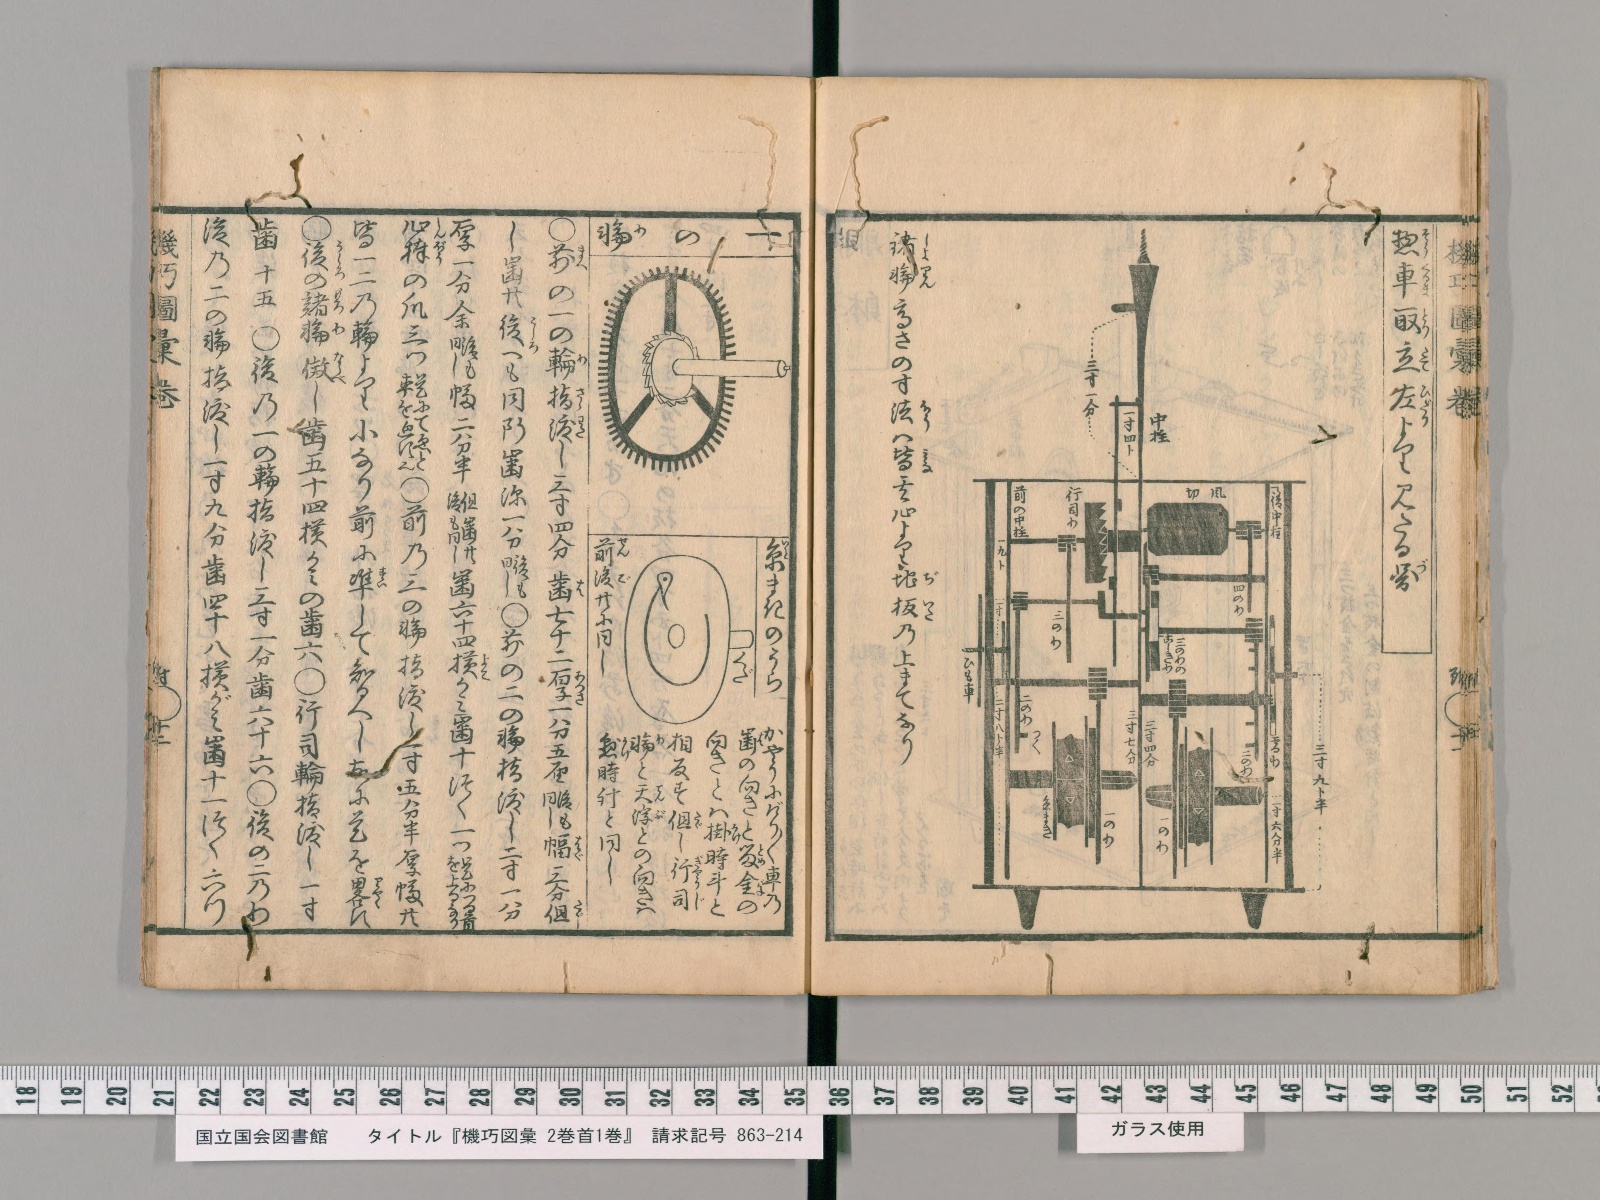1_overall: (139, 64, 1498, 997)
2_handwritten: (241, 219, 282, 924), (294, 216, 334, 924), (344, 219, 380, 928), (198, 216, 232, 928), (540, 216, 578, 784), (888, 229, 921, 764), (393, 476, 428, 926), (1388, 228, 1421, 592), (498, 221, 530, 552), (496, 603, 530, 921), (443, 219, 481, 484), (447, 568, 479, 856), (630, 732, 656, 916), (398, 219, 431, 367), (666, 734, 693, 913), (762, 724, 786, 916), (706, 729, 728, 916), (737, 725, 757, 916), (597, 730, 621, 887), (762, 537, 786, 695), (592, 537, 616, 679), (540, 833, 572, 924), (413, 371, 433, 471), (396, 373, 414, 471), (460, 490, 479, 563), (461, 855, 477, 932), (443, 855, 460, 929), (445, 493, 461, 566), (513, 552, 530, 600), (556, 789, 574, 832), (540, 792, 558, 829), (500, 555, 513, 597)
3_typography: (596, 218, 634, 252), (743, 224, 787, 246), (671, 227, 704, 247)
4_illustration: (957, 228, 1337, 933), (595, 261, 790, 476), (619, 551, 757, 725)
